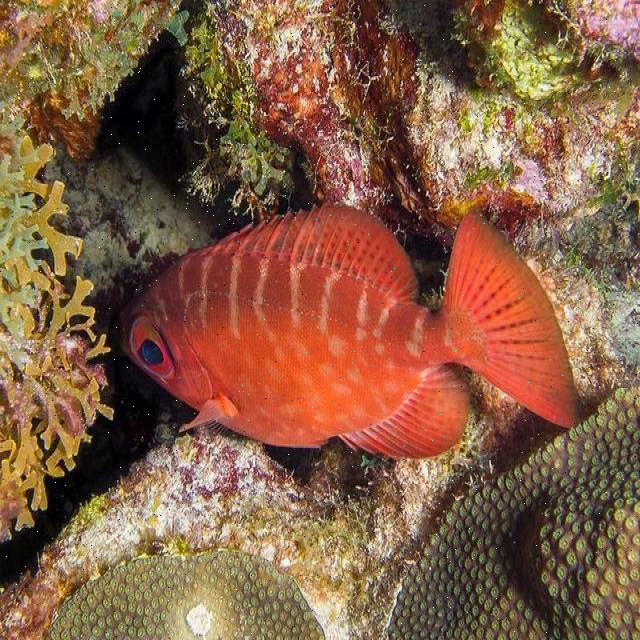fish: (111, 206, 580, 459)
reefs: (384, 385, 639, 639), (0, 134, 115, 543), (50, 546, 326, 639)
